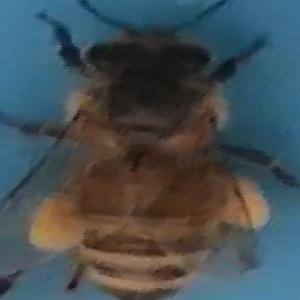bee: (17, 10, 293, 296)
